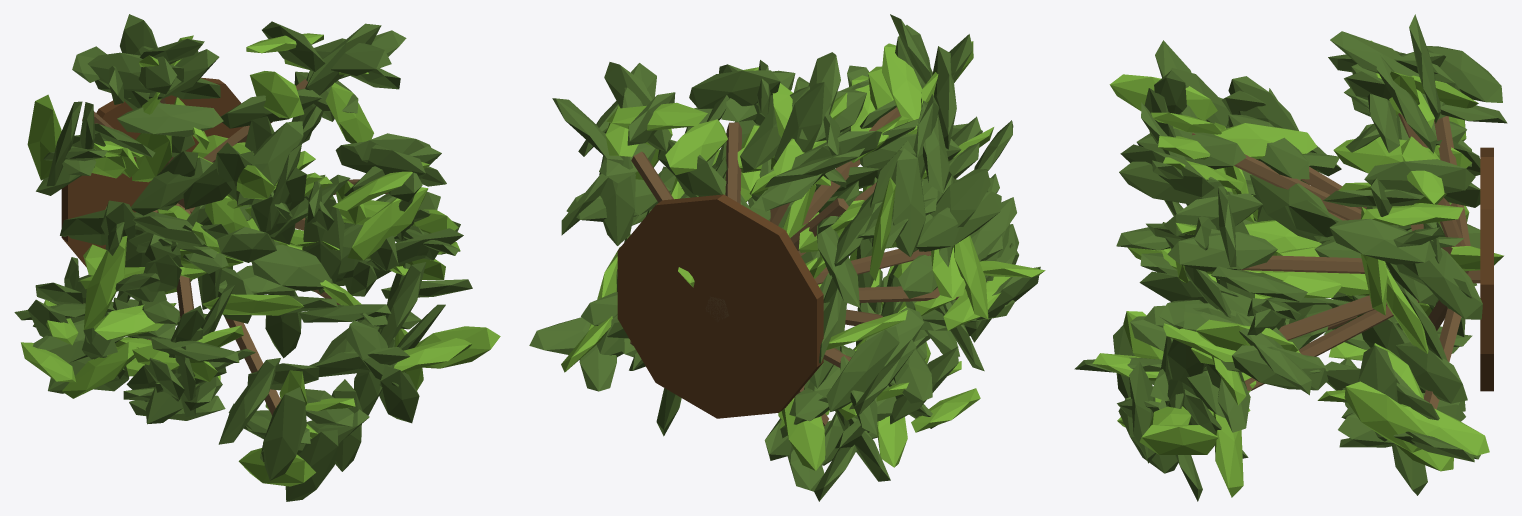
File: 3_mature_empty.obj
3 renders of one model, left to right at view 1: azimuth 30°, elevation 25°; view 2: azimuth 150°, elevation 25°; view 3: azimuth 270°, elevation 25°, orthographic. The views are drawn at different scales.
Parts seen in each view (by area): view 1: redberry_3_mature_empty; view 2: redberry_3_mature_empty; view 3: redberry_3_mature_empty.
Boxes of the visible parts, x1,y1,x2,y2 form: redberry_3_mature_empty: (14,14,500,501); redberry_3_mature_empty: (529,14,1045,501); redberry_3_mature_empty: (1074,14,1507,501).
Bounding box in the file's own units: 0.6981 × 0.6962 × 0.629.
